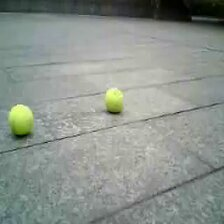tennis: (8, 103, 33, 137), (106, 88, 123, 110)
